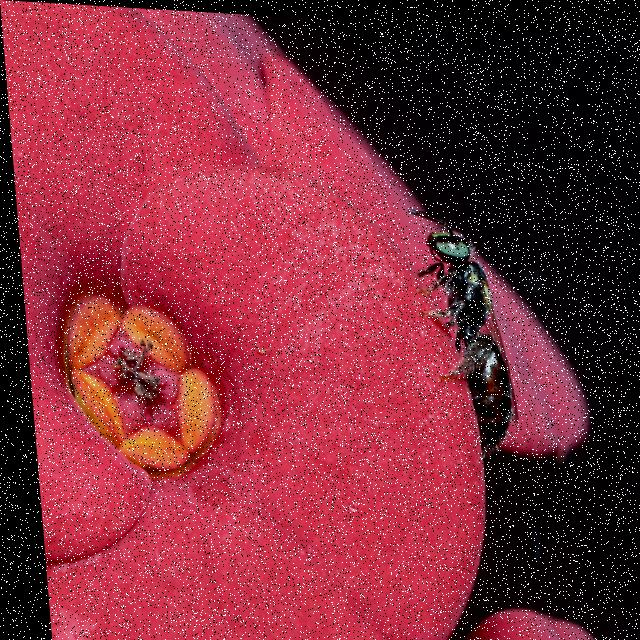Braunsapis: (396, 193, 534, 460)
